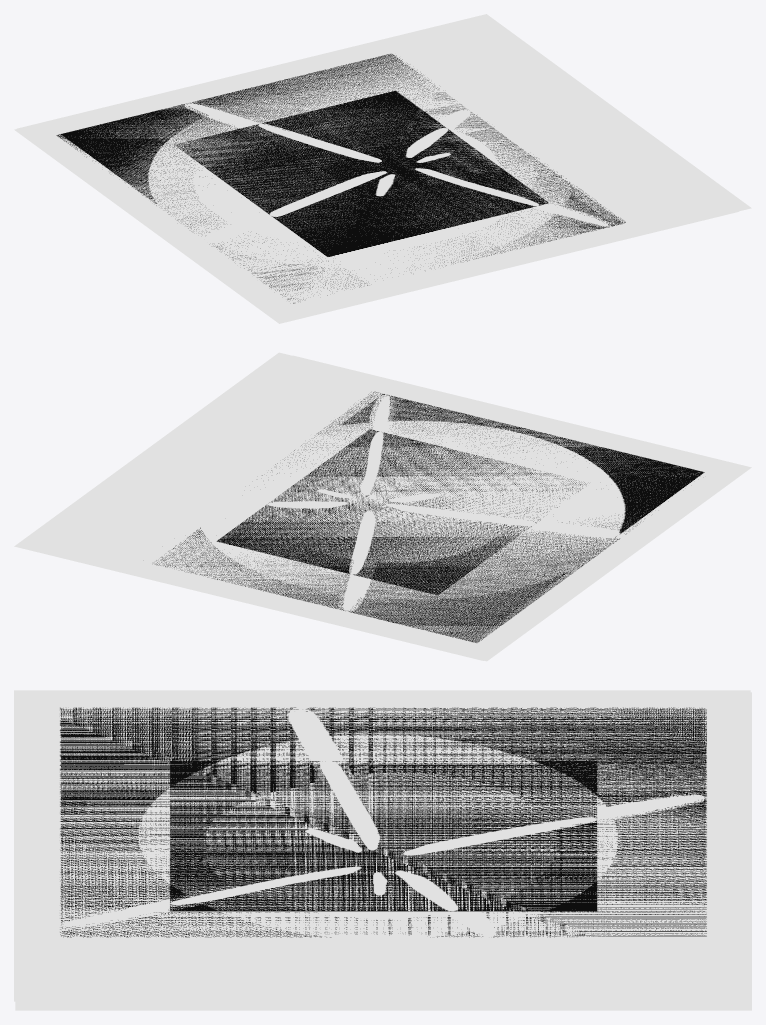
File: enemy_bulit_effect.obj
3 renders of one model, top to bottom at view 1: azimuth 30°, elevation 25°; view 2: azimuth 150°, elevation 25°; view 3: azimuth 270°, elevation 25°, orthographic. The views are drawn at different scales.
Visible parts, largest first — view 1: Plane001, Plane003, Plane005, Plane004; view 2: Plane001, Plane005, Plane003; view 3: Plane001, Plane004, Plane003, Plane005.
Boxes of the visible parts, box(x1,y1,x2,y2) form: Plane001: box(68, 14, 751, 320); Plane003: box(14, 18, 738, 323); Plane005: box(19, 17, 742, 322); Plane004: box(17, 17, 740, 322); Plane001: box(14, 352, 729, 658); Plane005: box(30, 355, 746, 660); Plane003: box(115, 355, 751, 661); Plane001: box(15, 699, 751, 1010); Plane004: box(15, 692, 751, 1003); Plane003: box(14, 690, 750, 1001); Plane005: box(15, 693, 751, 1004).
Bounding box in the file's own units: 1029 × 0 × 1002.
